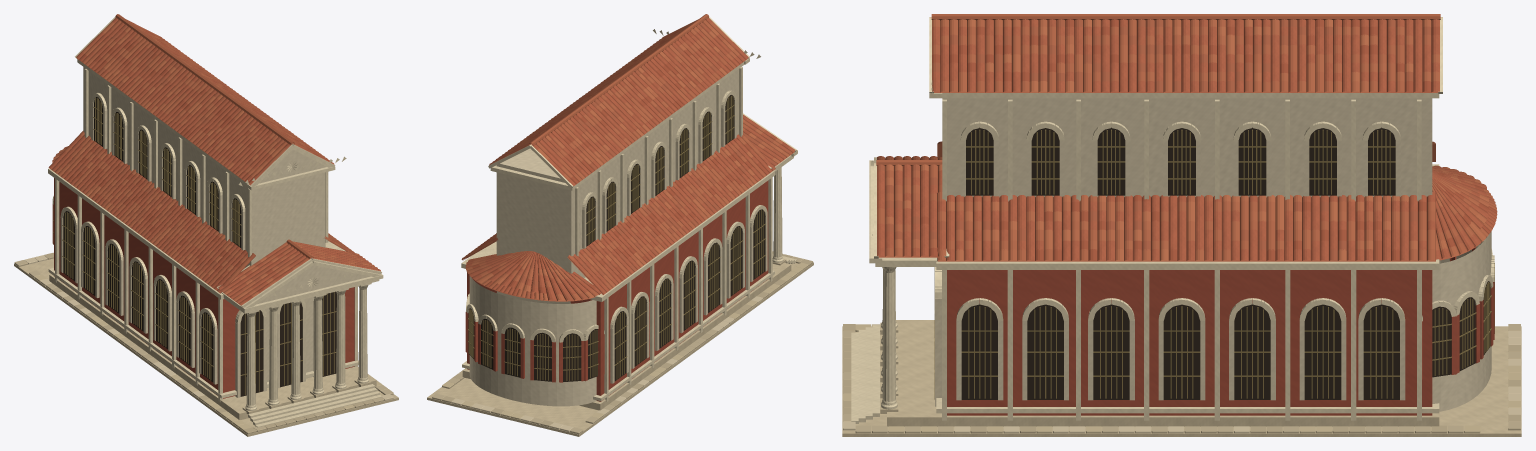
File: basilika.glb
The picture shows the model from 3 angles, left to right: view 1: azimuth 30°, elevation 25°; view 2: azimuth 150°, elevation 25°; view 3: azimuth 270°, elevation 25°; orthographic projection. The views are drawn at different scales.
Visible parts, largest first — view 1: Limestone_trim.004, Tile_0.004, Limewash.001, Limewash.004, Limestone_trim.001, Interior_shadow.004, Bronze.004, Pompeian_red.004, Tile_1.004, Tile_5.004, Travertine.004, Tile_2.004 (+12 smaller); view 2: Limewash.004, Tile_0.004, Limewash.001, Limestone_trim.004, Interior_shadow.004, Bronze.004, Limestone_trim.001, Pompeian_red.004, Tile_1.004, Tile_5.004, Travertine.004, Tile_2.004 (+13 smaller); view 3: Tile_0.004, Limewash.004, Interior_shadow.004, Limestone_trim.004, Limewash.001, Pompeian_red.004, Limestone_trim.001, Tile_1.004, Pompeian_red.001, Bronze.004, Tile_5.004, Travertine.001 (+14 smaller).
Part boxes in pixels (x1,y1,x2,y2): Limestone_trim.004: (48,17,382,427); Tile_0.004: (49,17,380,305); Limewash.001: (60,72,345,397); Limewash.004: (61,67,370,397); Limestone_trim.001: (48,59,383,427); Interior_shadow.004: (63,97,336,396); Bronze.004: (53,98,336,394); Pompeian_red.004: (52,178,354,398); Tile_1.004: (55,14,377,290); Tile_5.004: (53,27,374,300); Travertine.004: (14,258,398,436); Tile_2.004: (52,22,362,305); Limewash.004: (469,69,765,406); Tile_0.004: (465,17,795,300); Limewash.001: (496,72,767,383); Limestone_trim.004: (461,16,797,401); Interior_shadow.004: (468,95,765,381); Bronze.004: (467,96,765,380); Limestone_trim.001: (461,58,797,401); Pompeian_red.004: (466,180,768,401); Tile_1.004: (461,14,774,299); Tile_5.004: (465,21,789,300); Travertine.004: (427,259,813,436); Tile_2.004: (463,22,794,301); Tile_0.004: (877,19,1497,260); Limewash.004: (882,98,1491,411); Interior_shadow.004: (961,127,1490,399); Limestone_trim.004: (852,17,1494,423); Limewash.001: (935,98,1432,406); Pompeian_red.004: (947,247,1493,396); Limestone_trim.001: (851,93,1494,423); Tile_1.004: (876,14,1496,260); Pompeian_red.001: (947,247,1494,415); Bronze.004: (934,129,1494,399); Tile_5.004: (877,19,1492,260); Travertine.001: (842,320,1521,436).
Bounding box in the file's own units: 10.8 × 17.33 × 28.9.
16 materials, 5 textured.
